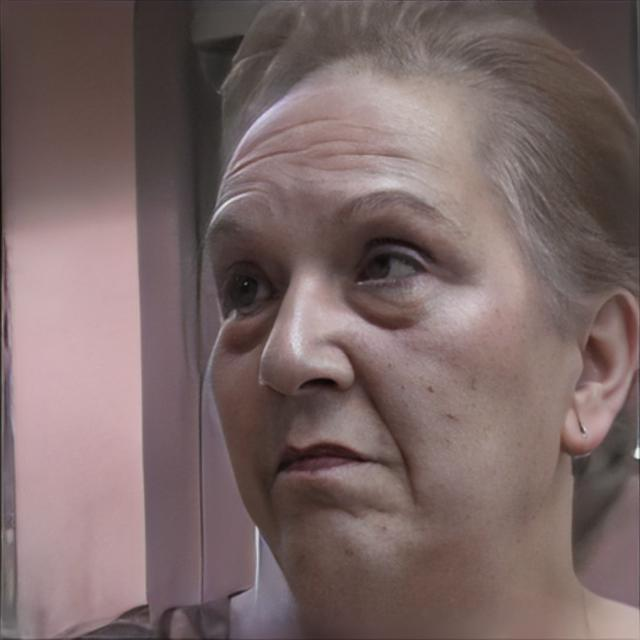surprise: (204, 49, 562, 586)
